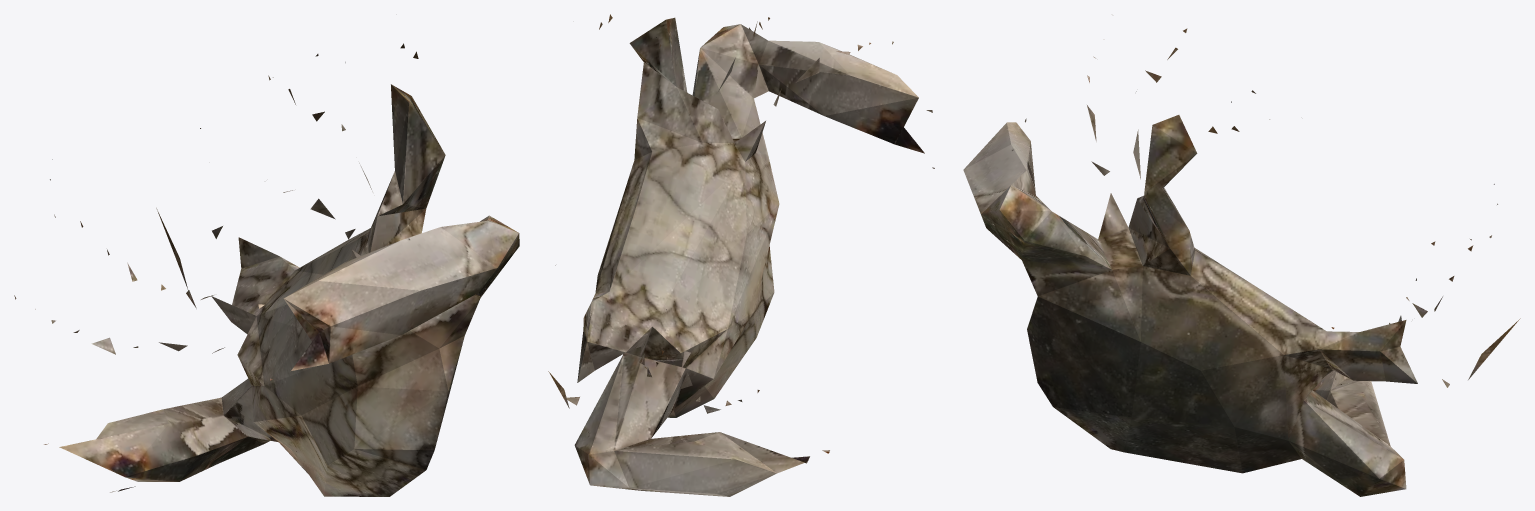
Rendered from crab_lo.glb.
3 views of the same model, side by side, from view 1: azimuth 30°, elevation 25°; view 2: azimuth 150°, elevation 25°; view 3: azimuth 270°, elevation 25° (orthographic). The views are drawn at different scales.
Parts seen in each view (by area): view 1: crab_far; view 2: crab_far; view 3: crab_far.
Part boxes in pixels (<box>): crab_far: <box>14,43,519,496</box>; crab_far: <box>548,14,934,496</box>; crab_far: <box>963,28,1520,496</box>.
Size of the model in its own units: 0.0711 by 0.1 by 0.1154.
1 material, 1 textured.
